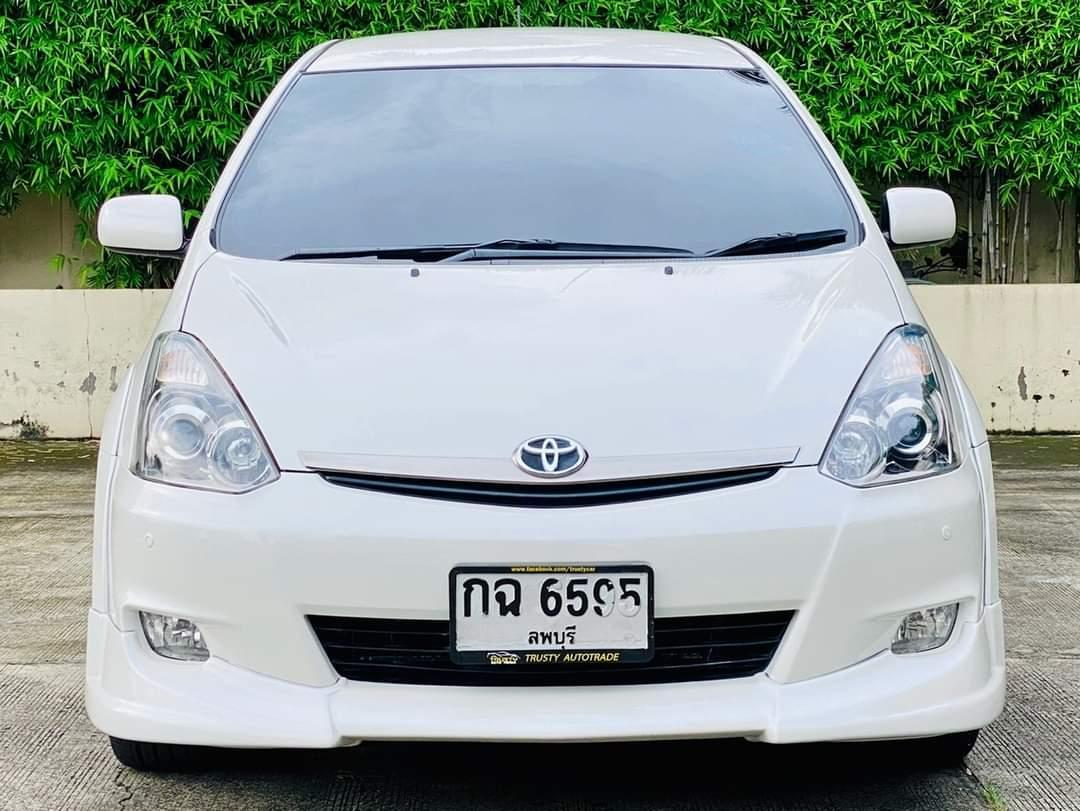license-plate: (449, 560, 656, 667)
